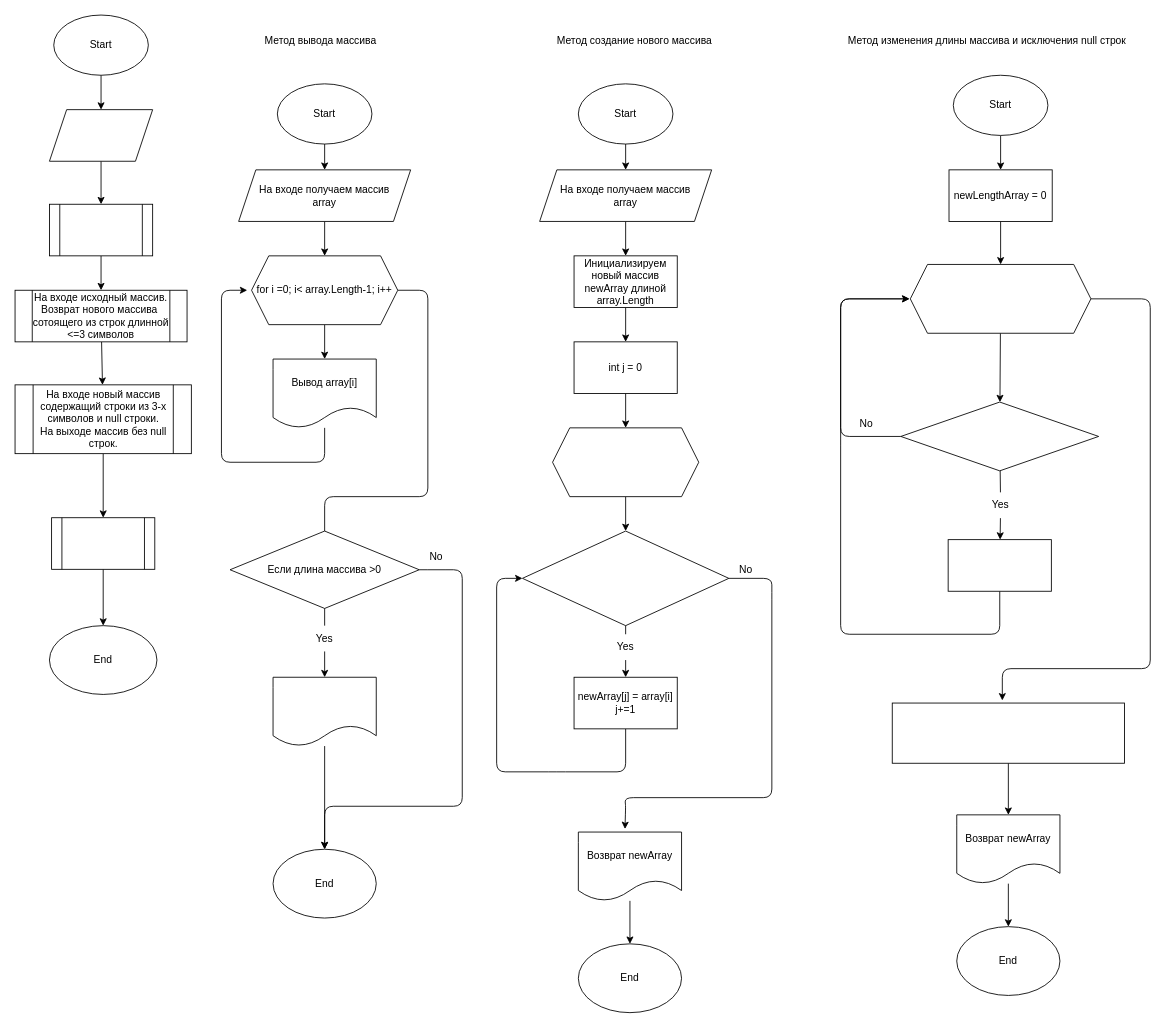
Image size: 1172x1028. Some labels were removed from this diagram. Each missing label, with the centre of its shape:
"for i =0; i< array.Length; i++" goes at (625,462).
"for i =0; i< newArray.Length; i++" goes at (1000,298).
"if (array[i].Length <= 3" goes at (625,578).
"newLengthArray++" goes at (999,565).
"Ввод начальных данных (массива строк)" goes at (101,135).
"Вывод конечного массива данных" goes at (103,543).
"Вывод начального массива данных" goes at (101,229).
"Вывод последнего элемента массива" goes at (324,711).
"Вызов метода Array . Resize ( ref newArray , newLengthArray )" goes at (1007,732).
"Если newArray[i] != null" goes at (999,436).
